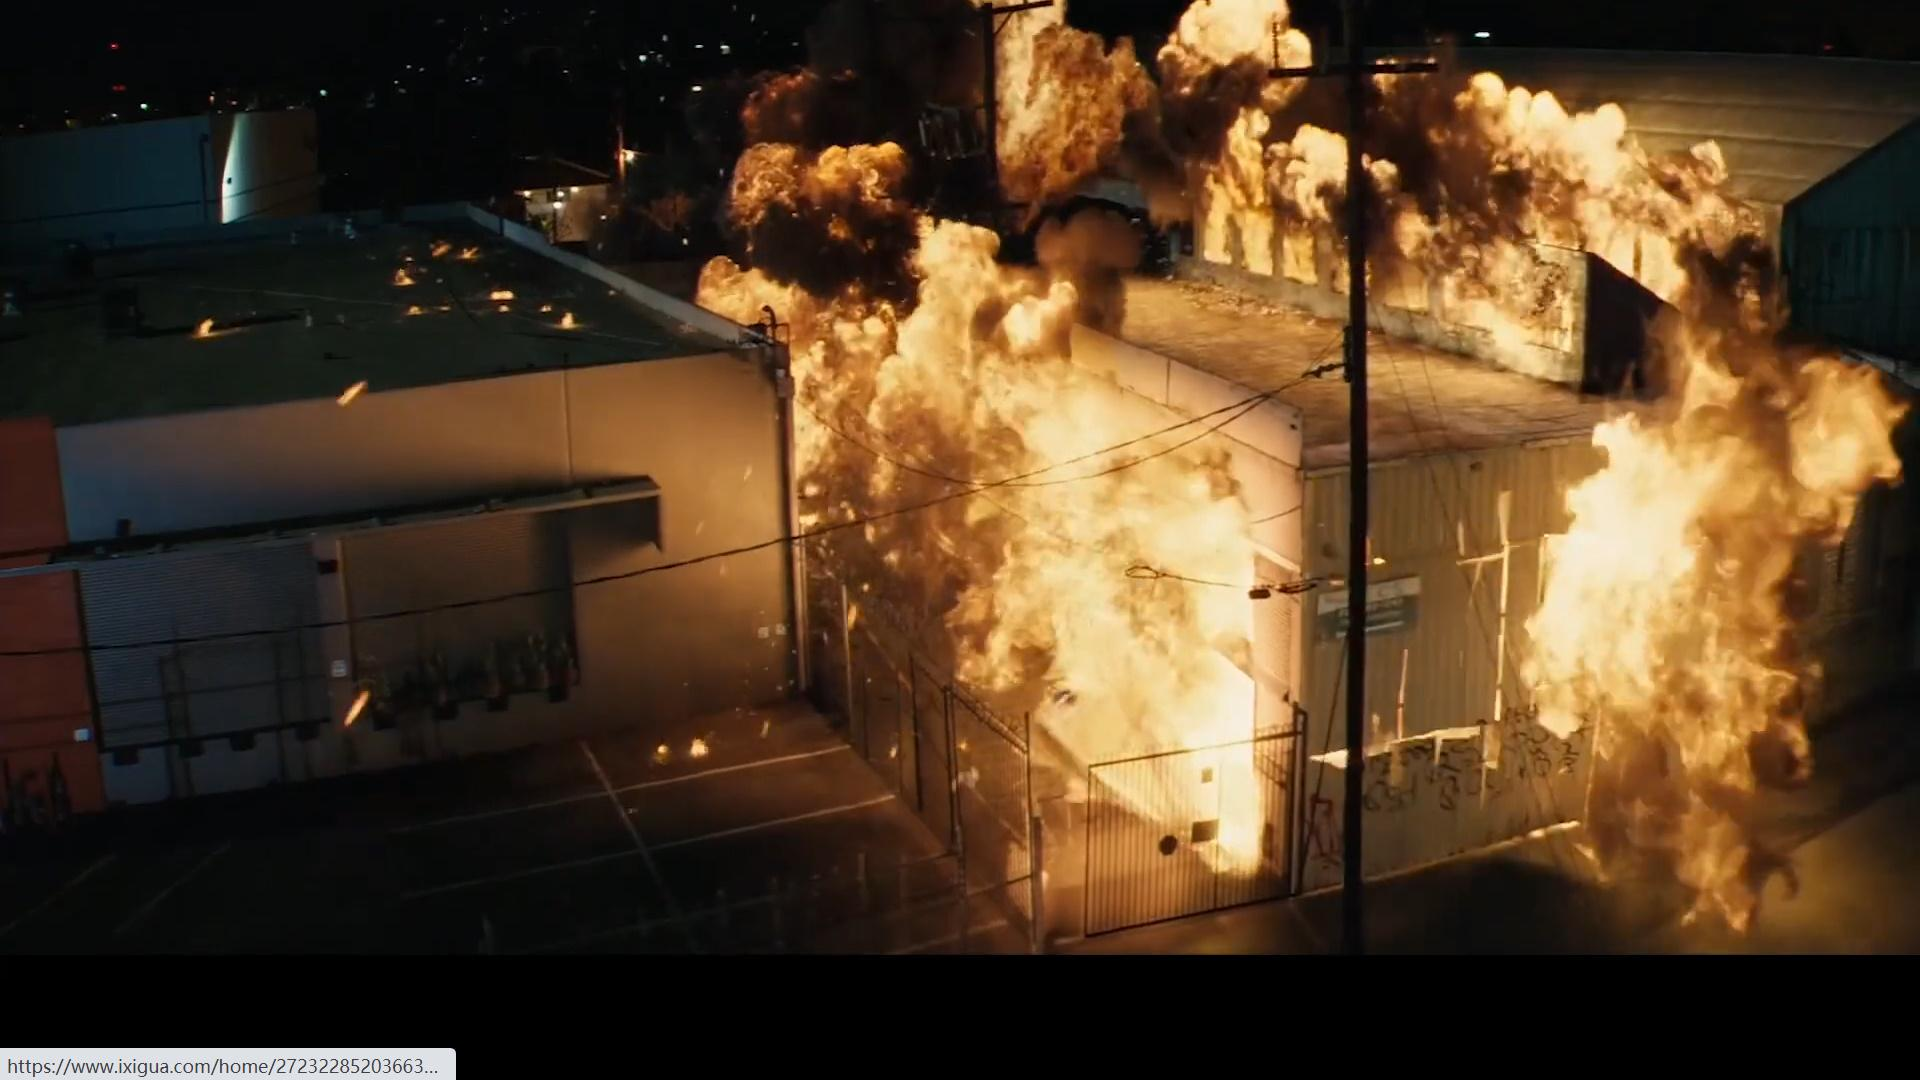fire: (624, 0, 1909, 905)
